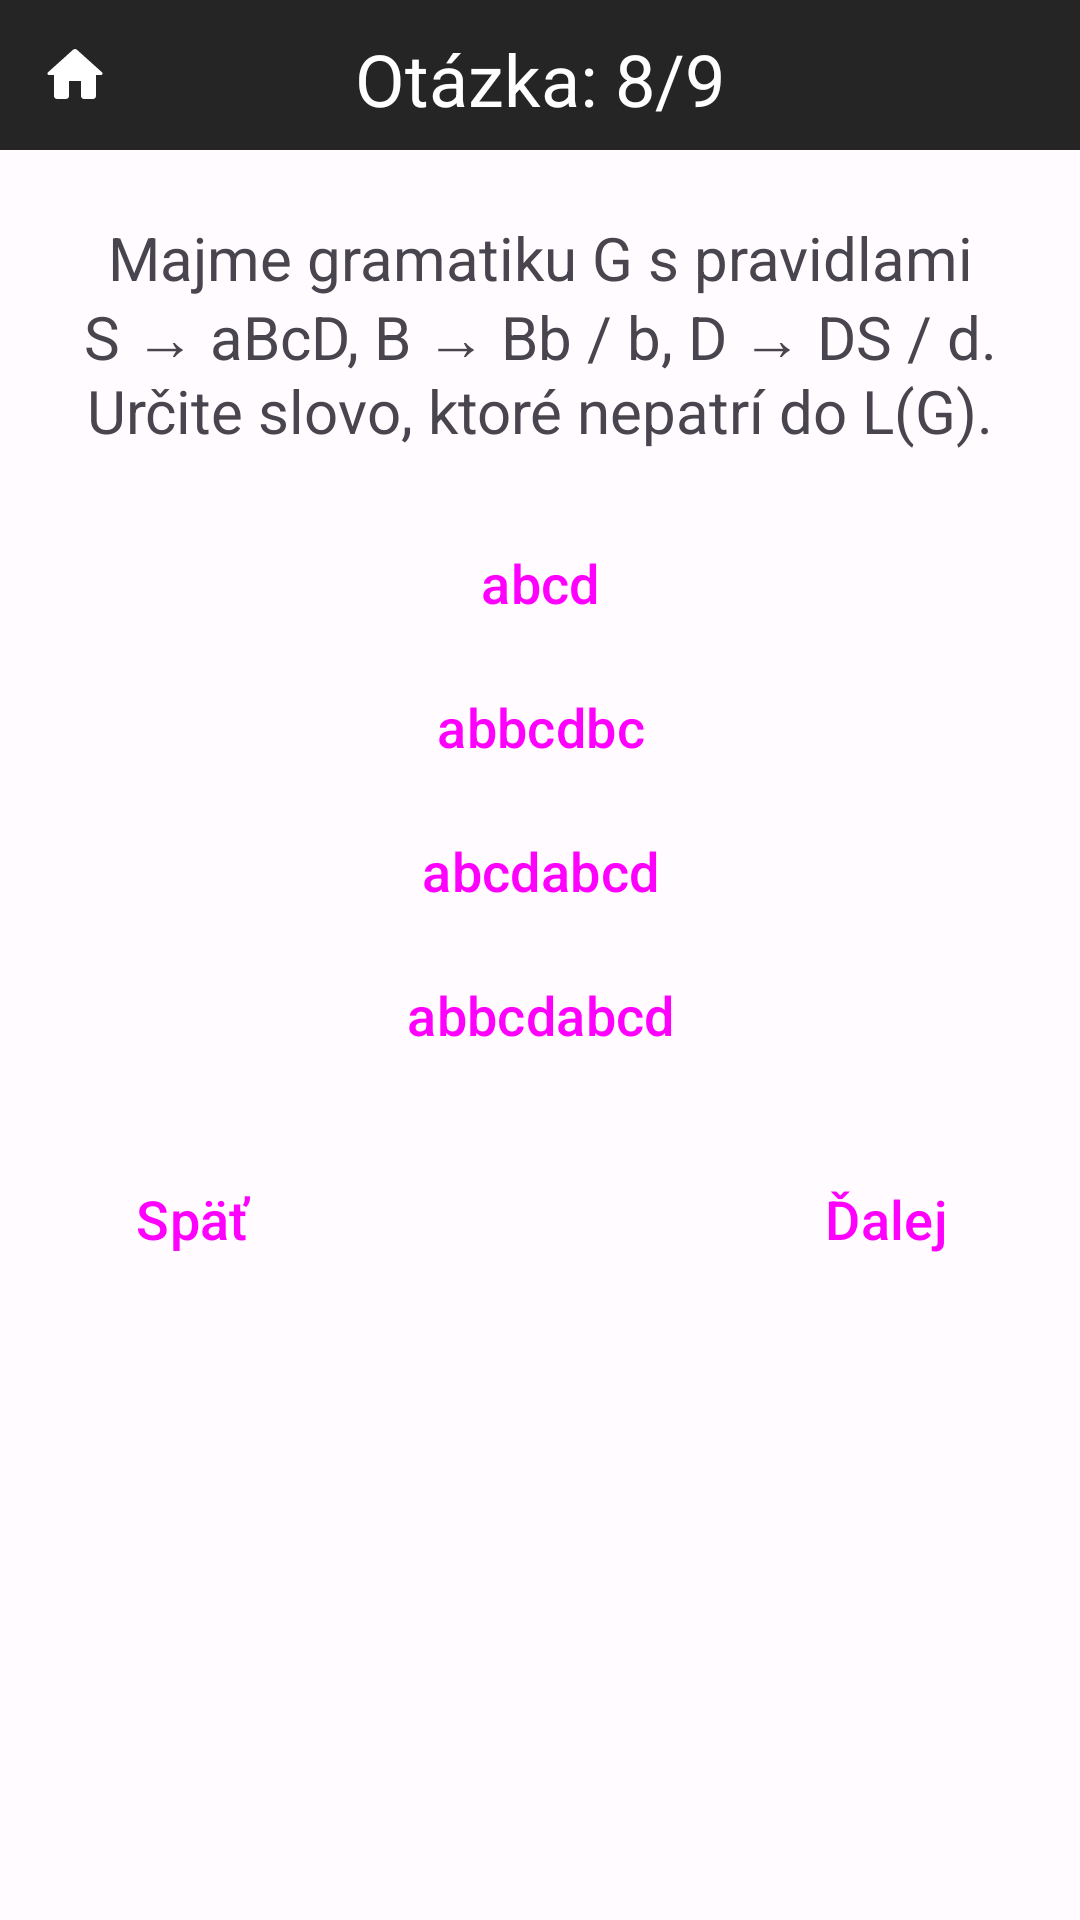

Icons on this 1080w x 1920h Android screen, each with the point to tap as (x,y):
domov: (75,74)
